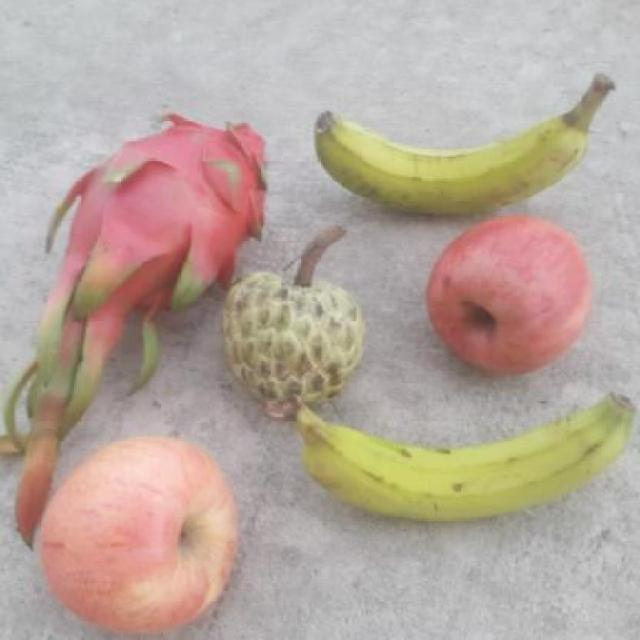apple: (40, 437, 248, 640), (428, 216, 602, 379)
banana: (268, 395, 637, 523), (309, 72, 623, 217)
dragon fruit: (42, 110, 273, 336)
sugar apple: (218, 260, 376, 417)
